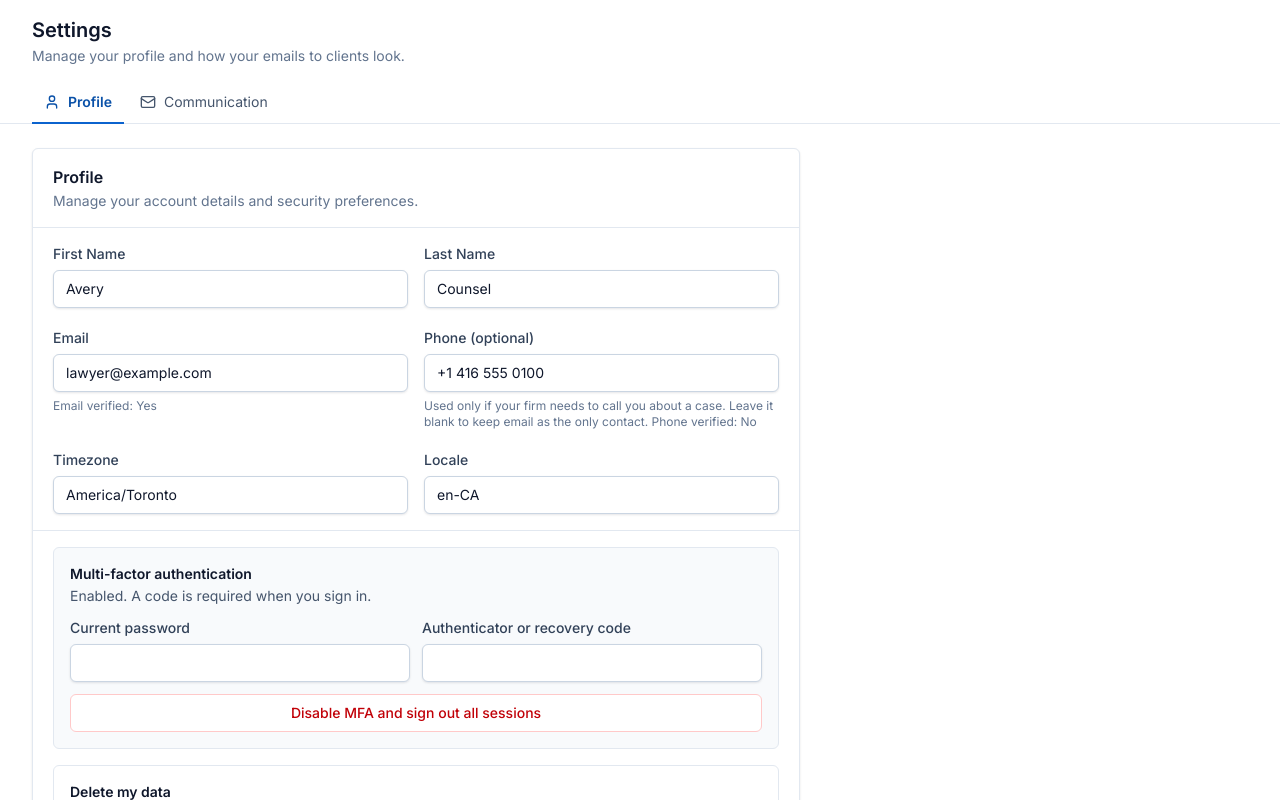
Test: LawyerSettings › CT-LSET-02: shows opt-ins and blocks types the admin turned off
The width and height of the screenshot is (1280, 800).
Click the button "Communication" at [204, 103], box [128,82,280,124]
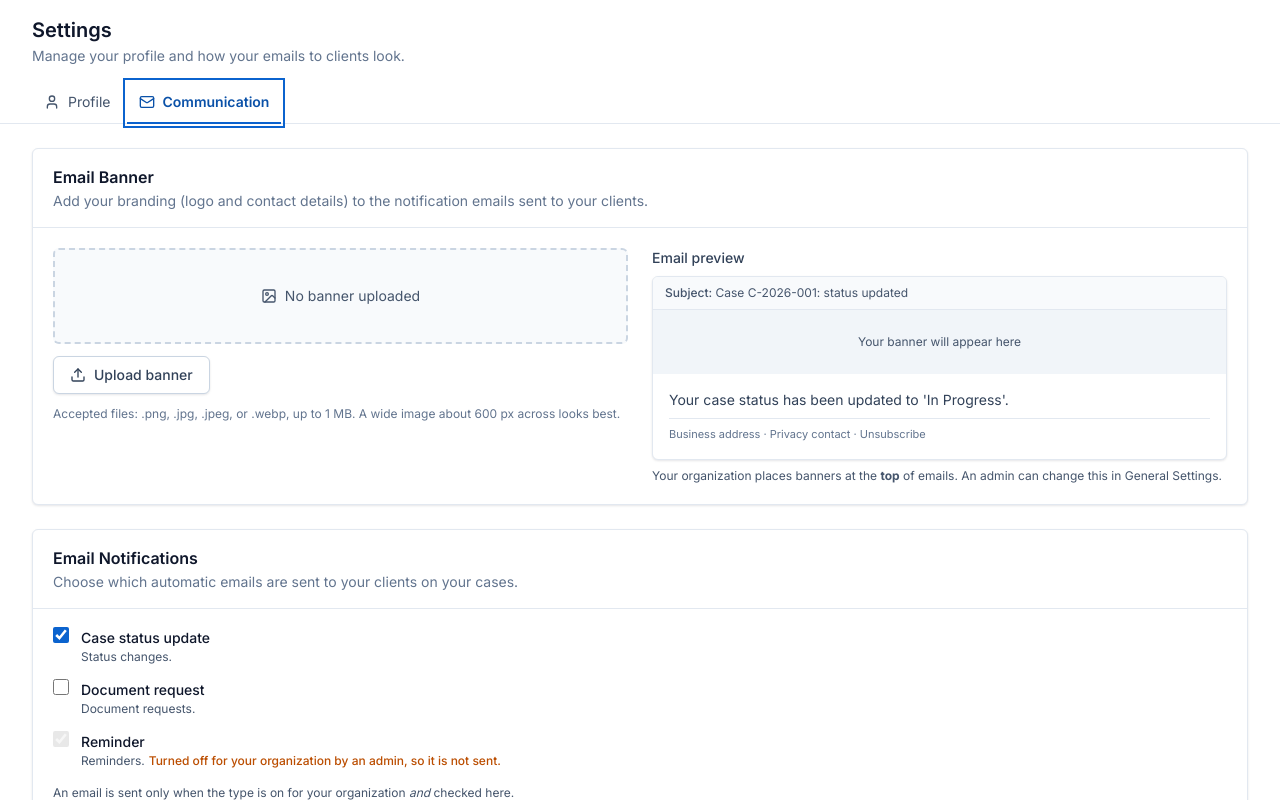
Expected: the heading "Email Banner" is shown, [53,167,154,187]
Expected: the checkbox labelled "Case status update" is checked, [53,627,69,643]
Expected: the checkbox labelled "Document request" is not checked, [53,679,69,695]
